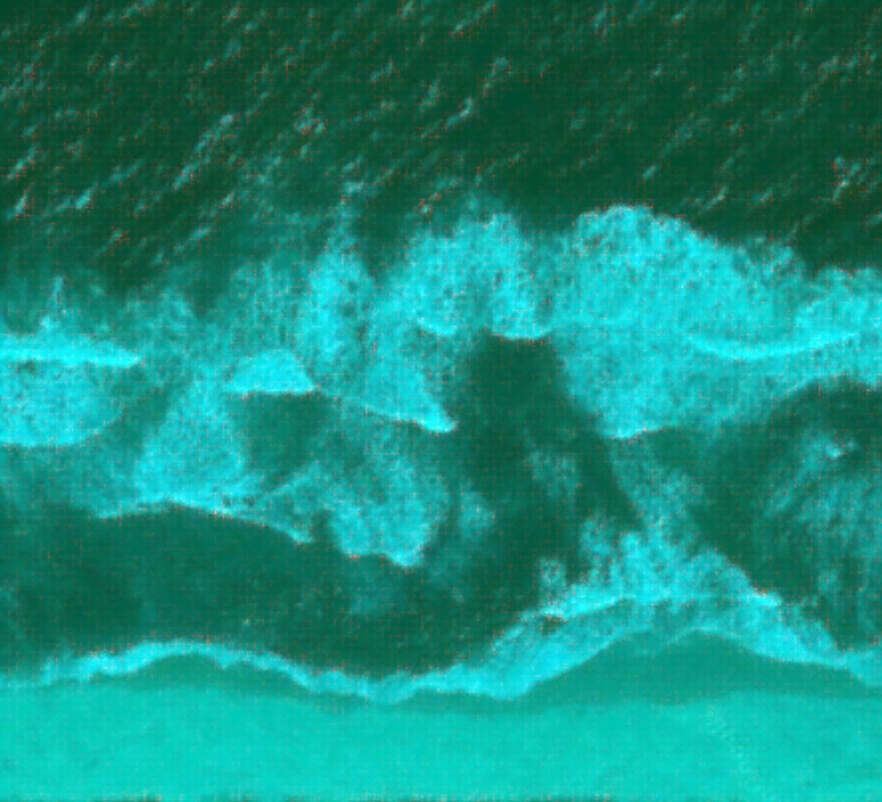rip_current: (366, 237, 666, 616)
